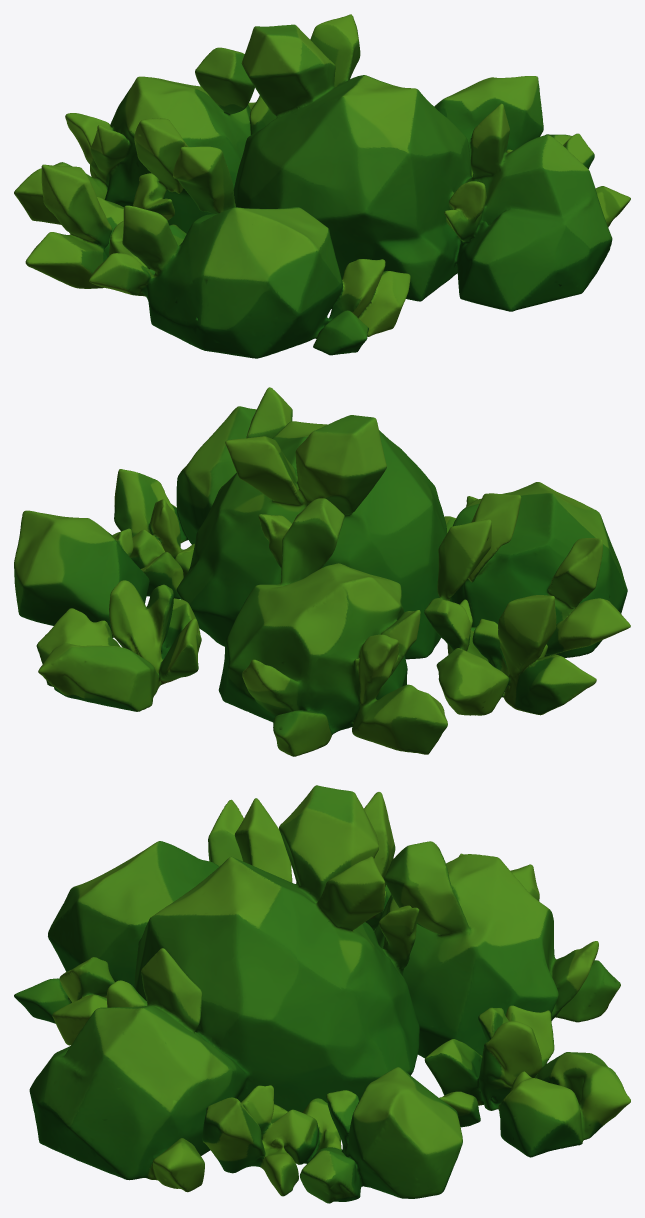
The model's file is bush2.glb.
3 views of the same model, one above another, from view 1: azimuth 30°, elevation 25°; view 2: azimuth 150°, elevation 25°; view 3: azimuth 270°, elevation 25° (orthographic). The views are drawn at different scales.
Parts seen in each view (by area): view 1: world; view 2: world; view 3: world.
Boxes of the visible parts, x1,y1,x2,y2 form: world: [14, 14, 630, 358]; world: [14, 387, 630, 756]; world: [14, 785, 630, 1203].
Bounding box in the file's own units: 1 × 0.3822 × 0.8504.
Materials: 1 (1 with a texture image).
